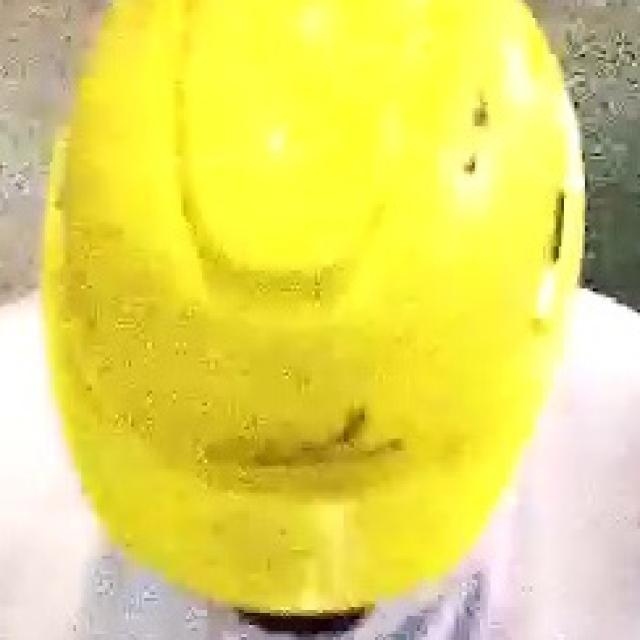yellow helmet: (42, 1, 590, 615)
